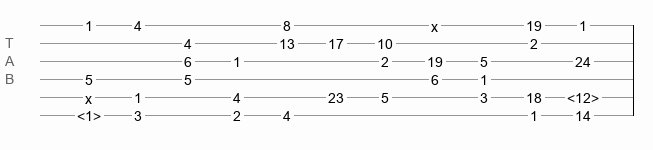1: (85, 18, 93, 28), (134, 90, 142, 100), (233, 54, 241, 64), (480, 72, 488, 82), (530, 108, 538, 118), (579, 18, 587, 28)
10: (377, 36, 393, 46)
13: (279, 36, 295, 46)
14: (575, 108, 591, 118)
17: (328, 36, 344, 46)
18: (526, 90, 542, 100)
19: (427, 54, 443, 64), (526, 18, 542, 28)
2: (233, 108, 241, 118), (381, 54, 389, 64), (530, 36, 538, 46)
23: (328, 90, 344, 100)
24: (575, 54, 591, 64)
3: (134, 108, 142, 118), (480, 90, 488, 100)
4: (134, 18, 142, 28), (184, 36, 192, 46), (233, 90, 241, 100), (283, 108, 291, 118)
5: (85, 72, 93, 82), (184, 72, 192, 82), (381, 90, 389, 100), (480, 54, 488, 64)
6: (184, 54, 192, 64), (431, 72, 439, 82)
8: (283, 18, 291, 28)
harmonic: (567, 90, 599, 100), (77, 108, 101, 118)
x: (85, 91, 92, 99), (431, 19, 438, 27)
